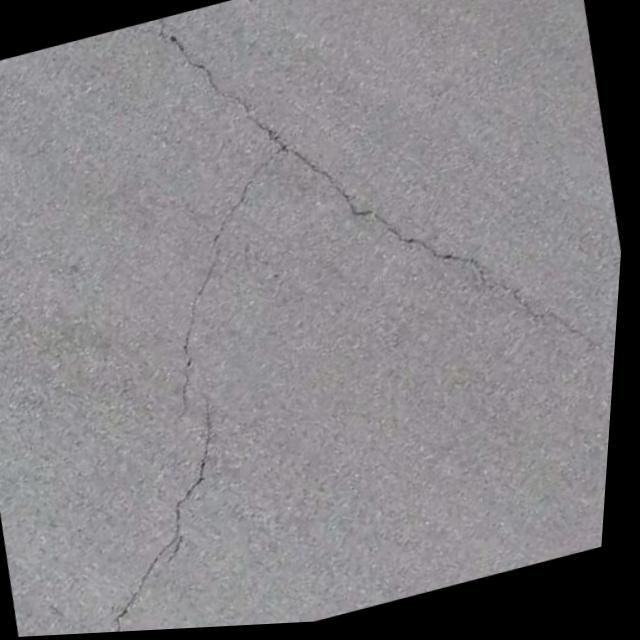Crack: (171, 0, 480, 266), (45, 458, 254, 637), (143, 250, 268, 438), (381, 192, 516, 341)
